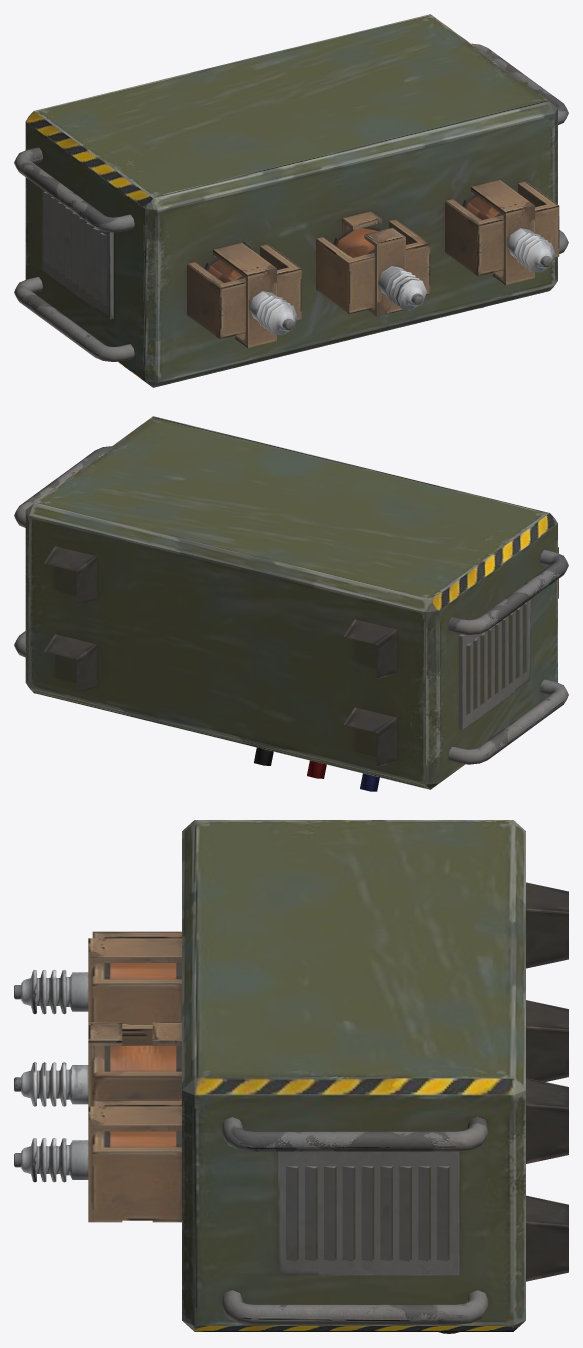
Rendered from em-tethering-unit.glb.
3 views of the same model, one above another, from view 1: azimuth 30°, elevation 25°; view 2: azimuth 150°, elevation 25°; view 3: azimuth 270°, elevation 25° (orthographic). The views are drawn at different scales.
Parts seen in each view (by area): view 1: EM(Clone); view 2: EM(Clone); view 3: EM(Clone).
Part boxes in pixels (bbox=[...]): EM(Clone): bbox=[14, 14, 568, 387]; EM(Clone): bbox=[14, 416, 568, 791]; EM(Clone): bbox=[14, 820, 568, 1333].
Bounding box in the file's own units: 2.81 × 1.3 × 2.14.
1 material, 1 textured.
